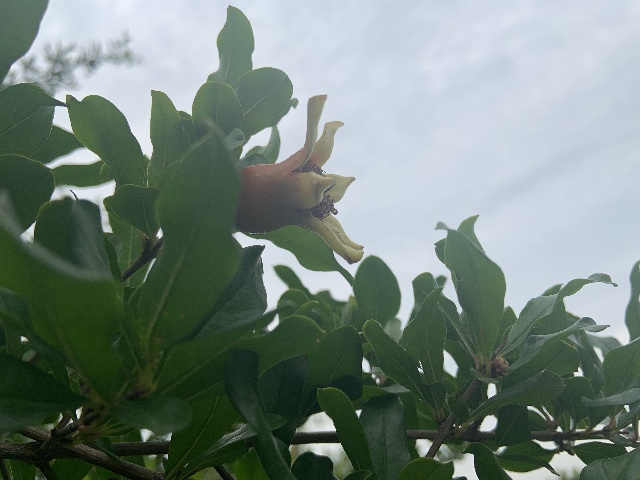early-fruit: (237, 95, 365, 263)
